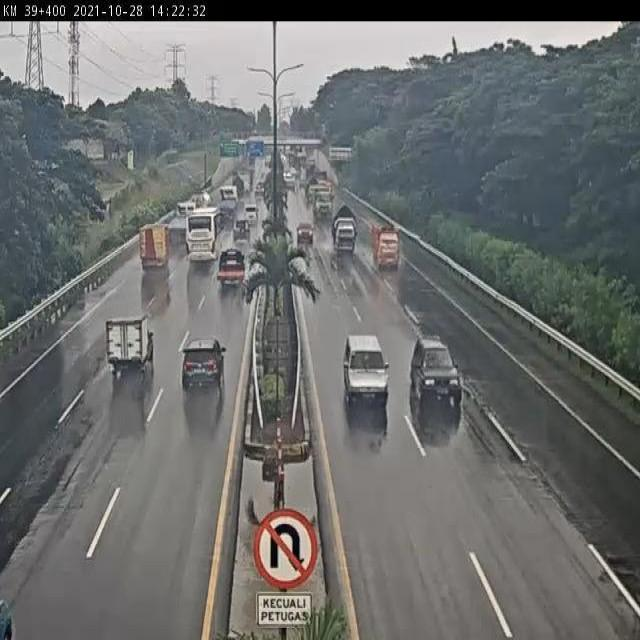big bus: (185, 208, 221, 263)
car: (408, 334, 464, 406), (341, 333, 391, 408), (102, 314, 154, 382), (179, 336, 229, 399), (232, 220, 252, 247), (296, 220, 315, 244)
truck-m-: (332, 204, 356, 253)
truck-s-: (369, 220, 400, 269), (138, 224, 170, 271), (219, 248, 246, 283)
